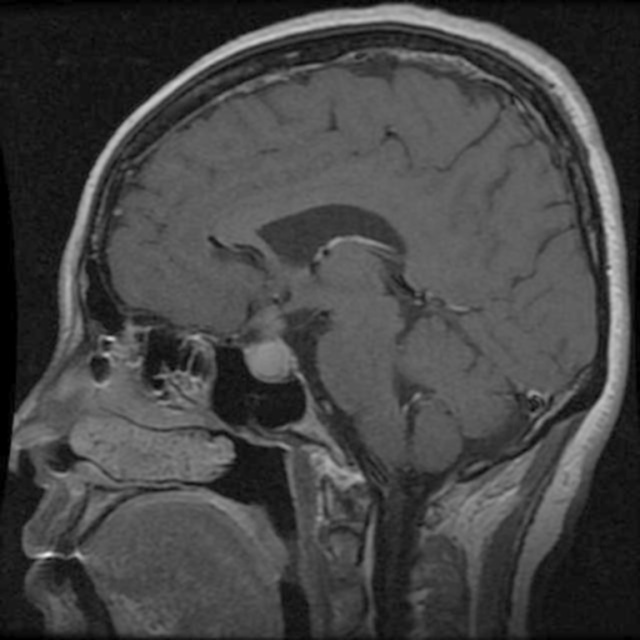no tumor: (237, 329, 315, 389)
